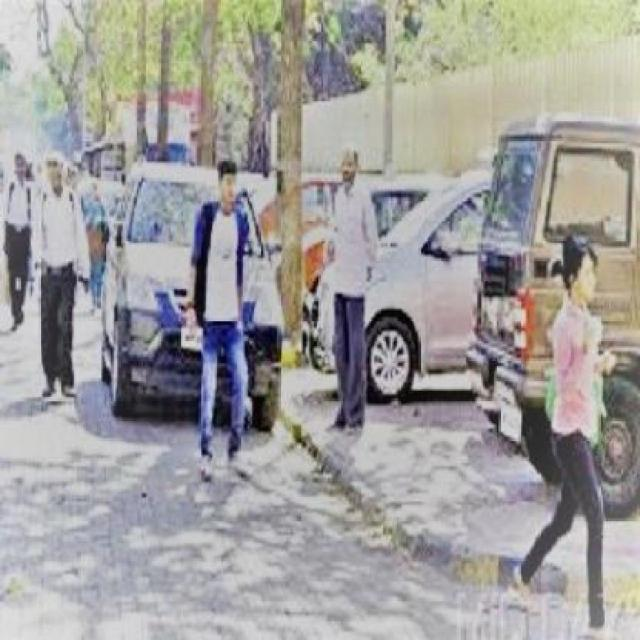Person: (514, 231, 624, 638), (193, 151, 261, 487), (323, 143, 382, 434), (34, 149, 92, 406), (0, 144, 35, 333)
